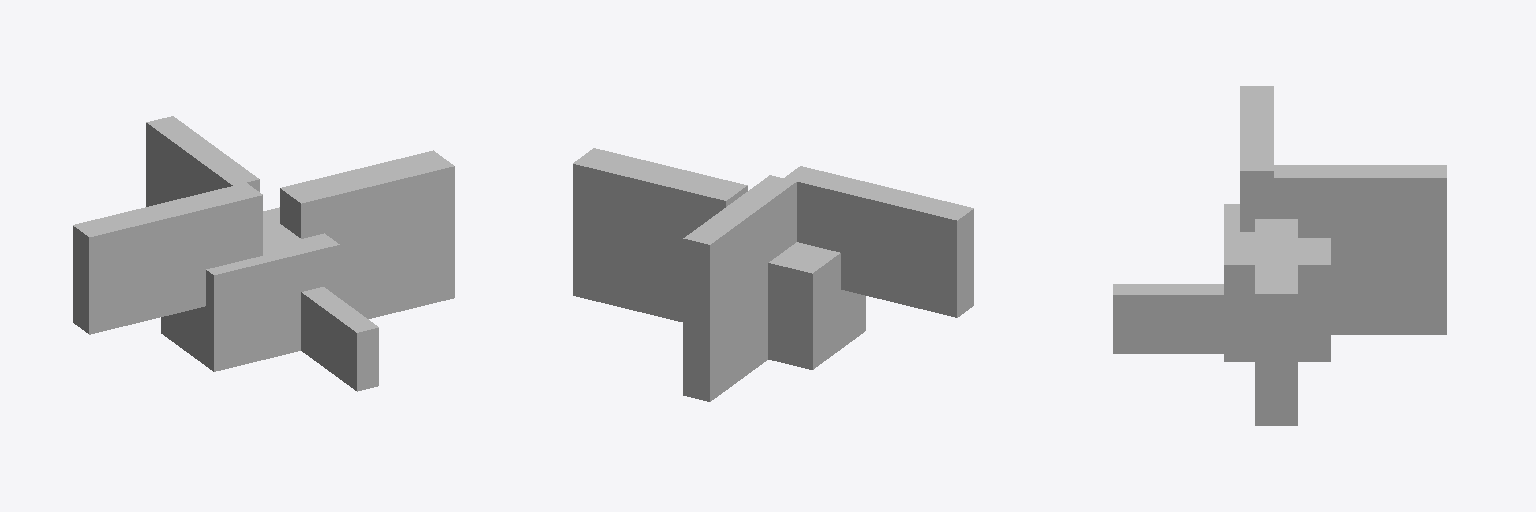
Rendered from zorro00.obj.
3 views of the same model, side by side, from view 1: azimuth 30°, elevation 25°; view 2: azimuth 150°, elevation 25°; view 3: azimuth 270°, elevation 25° (orthographic).
Bounding box in the file's own units: 30.72 × 12.37 × 23.9.